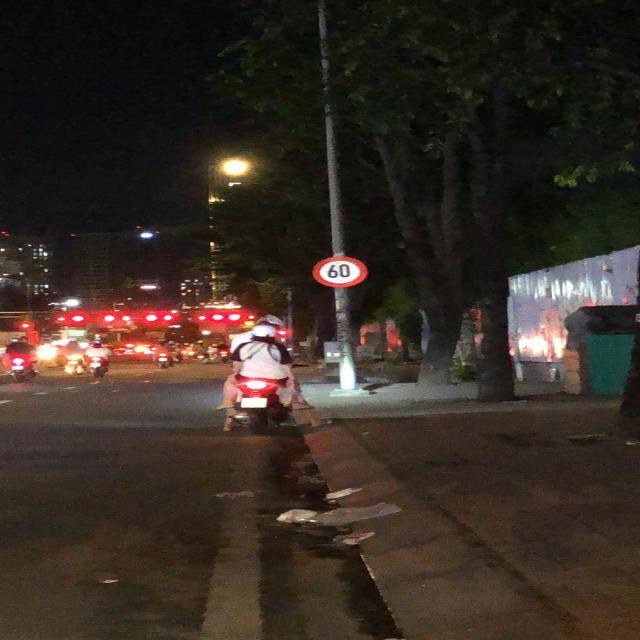Bien bao toc do toi da cho phep: (311, 253, 371, 289)
